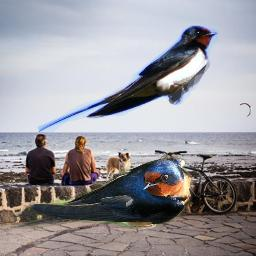Swallow: (36, 25, 218, 133), (10, 156, 193, 229)
